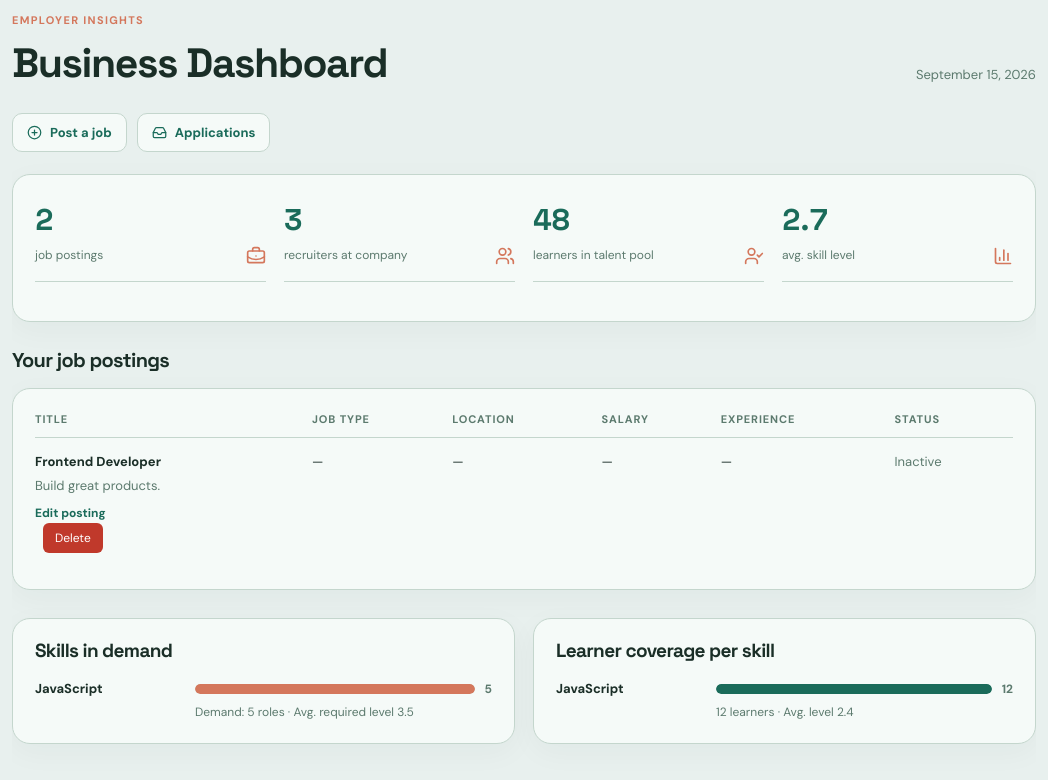
BusinessDashboardPage › deletes a posting via the base-relative path and refreshes without reload
Expected: the text "Frontend Developer" is shown, [35,453,161,470]
Click the button "Delete".
click(73, 538)  # box [43,523,103,553]
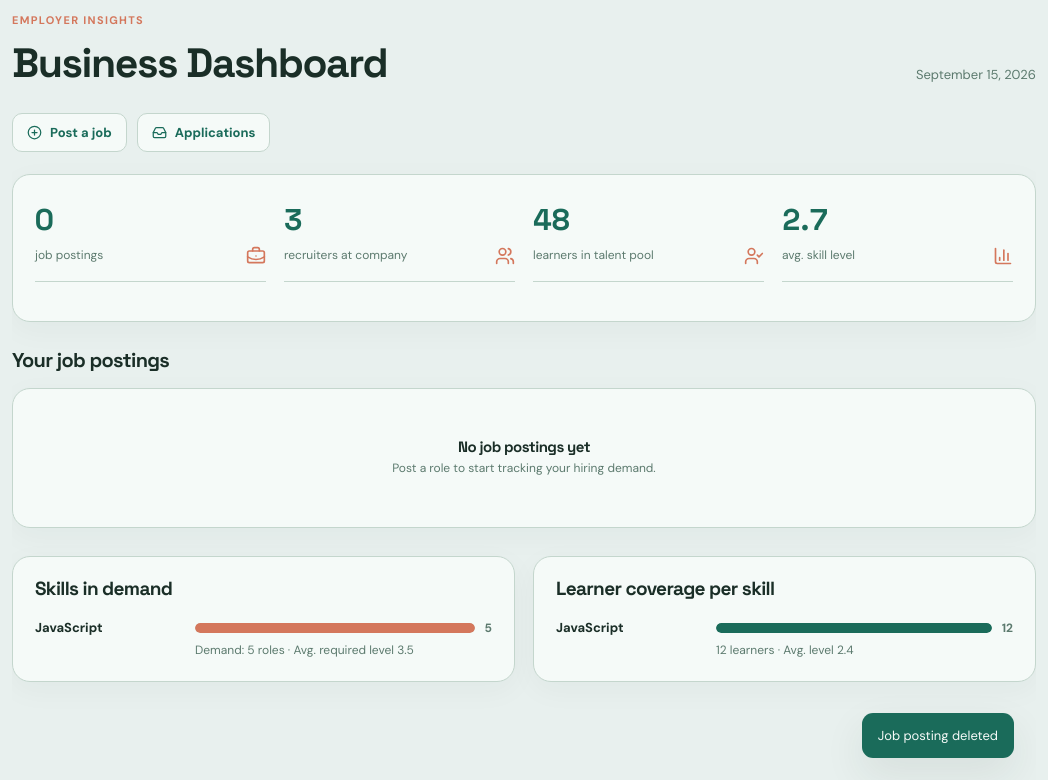
Expected: the heading "No job postings yet" is shown, [458,437,590,456]
Expected: the text "Job posting deleted" is shown, [862,712,1014,758]
